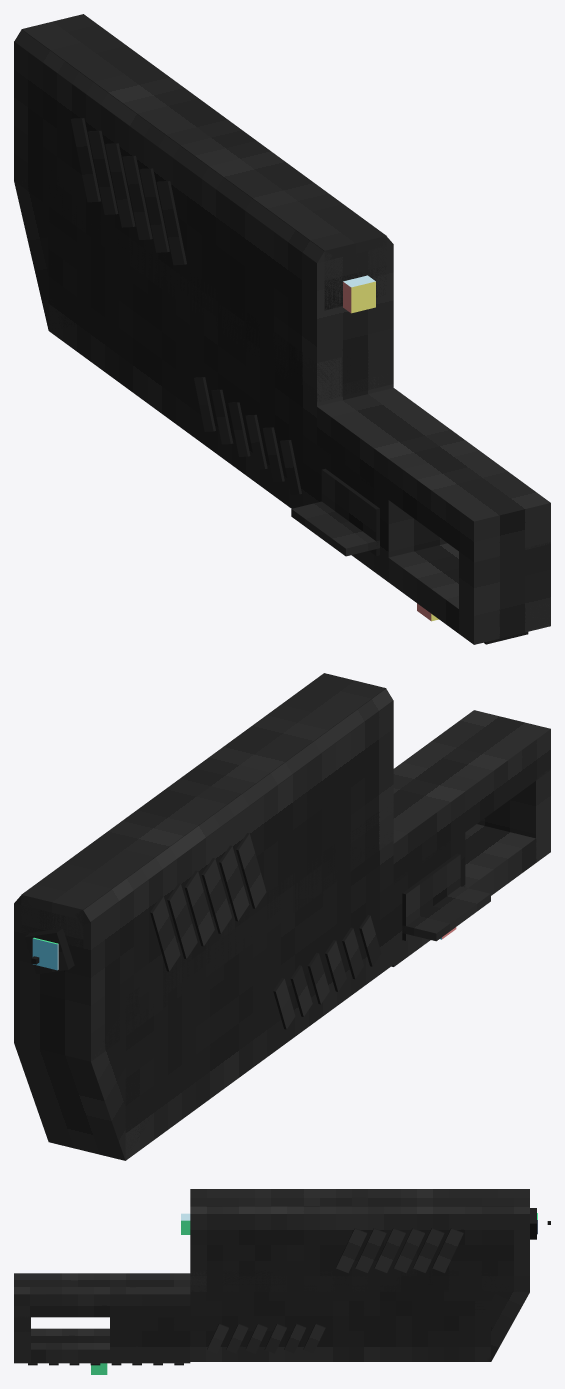
File: c_fischersuppressor.geo.fbx
3 renders of one model, top to bottom at view 1: azimuth 30°, elevation 25°; view 2: azimuth 150°, elevation 25°; view 3: azimuth 270°, elevation 25°, orthographic. The views are drawn at different scales.
Parts seen in each view (by area): view 1: bone12, gun6, _ca_suppressor; view 2: bone12, gun6, _cb_suppressor; view 3: bone12, gun6.
Boxes of the visible parts, left/top/right/bottom form: bone12: left=14, top=14, right=550, bottom=644; gun6: left=291, top=501, right=379, bottom=556; _ca_suppressor: left=343, top=275, right=375, bottom=313; bone12: left=14, top=673, right=550, bottom=1160; gun6: left=402, top=886, right=490, bottom=941; _cb_suppressor: left=32, top=937, right=58, bottom=970; bone12: left=14, top=1189, right=536, bottom=1363; gun6: left=28, top=1363, right=183, bottom=1365.
Size of the model in its own units: 28.58 by 74.7 by 209.
Materials: 1 (1 with a texture image).
